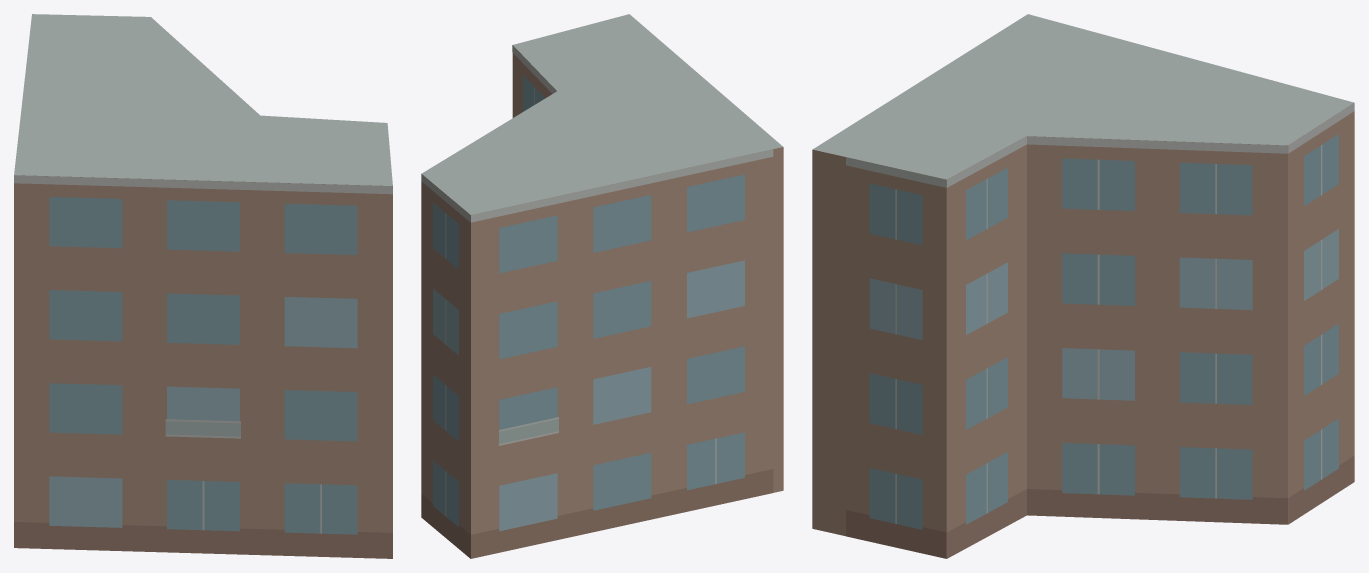
File: survey-upis-32772528.glb
3 renders of one model, left to right at view 1: azimuth 30°, elevation 25°; view 2: azimuth 150°, elevation 25°; view 3: azimuth 270°, elevation 25°, orthographic. The views are drawn at different scales.
Parts seen in each view (by area): view 1: survey-upis-32772528.tmp; view 2: survey-upis-32772528.tmp; view 3: survey-upis-32772528.tmp.
Boxes of the visible parts, <box> form: survey-upis-32772528.tmp: <box>14,14,392,558</box>; survey-upis-32772528.tmp: <box>421,14,783,558</box>; survey-upis-32772528.tmp: <box>812,14,1354,558</box>.
Bounding box in the file's own units: 10.41 × 11.1 × 14.39.
